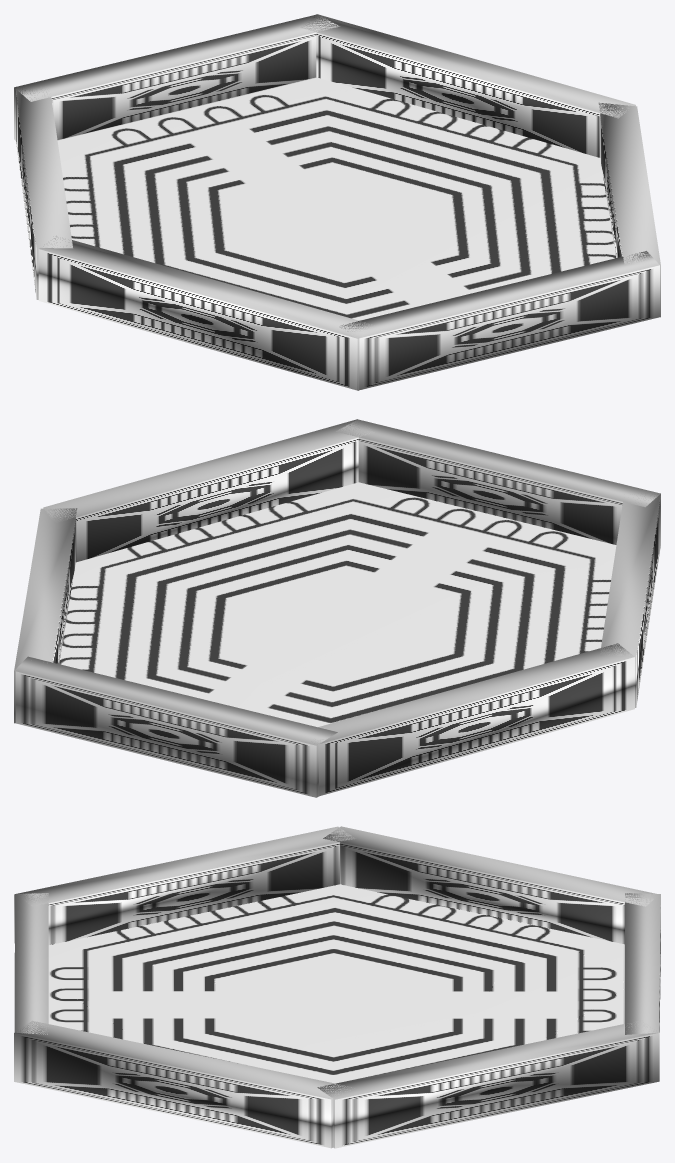
The model's file is plataformaMonstre.fbx.
The picture shows the model from 3 angles, top to bottom: view 1: azimuth 30°, elevation 25°; view 2: azimuth 150°, elevation 25°; view 3: azimuth 270°, elevation 25°; orthographic projection. The views are drawn at different scales.
Parts seen in each view (by area): view 1: Cubo, Cubo_1; view 2: Cubo, Cubo_1; view 3: Cubo_1, Cubo.
Boxes of the visible parts, x1,y1,x2,y2 form: Cubo: [57, 77, 615, 320]; Cubo_1: [14, 14, 660, 390]; Cubo: [59, 482, 616, 727]; Cubo_1: [14, 419, 660, 797]; Cubo_1: [14, 826, 660, 1148]; Cubo: [48, 884, 624, 1083].
Bounding box in the file's own units: 60 × 5 × 60.
3 materials, 2 textured.
